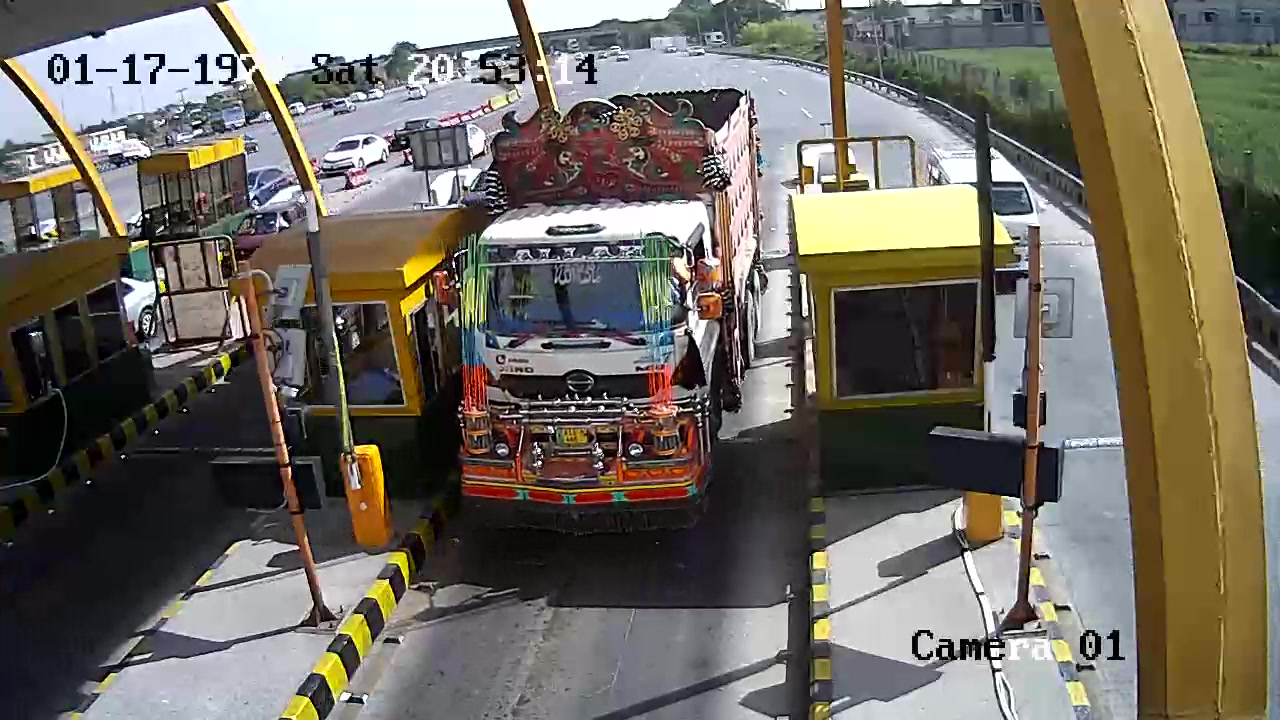F5: (456, 80, 767, 518)
